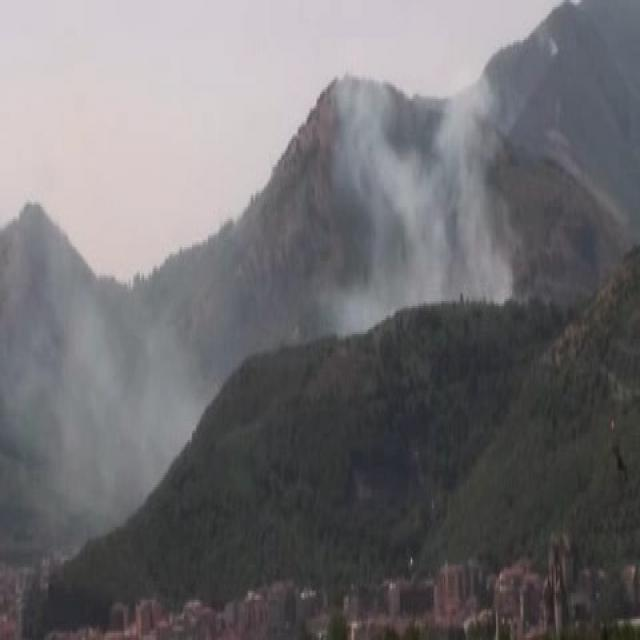smoke: (321, 81, 498, 313), (16, 280, 202, 480)
